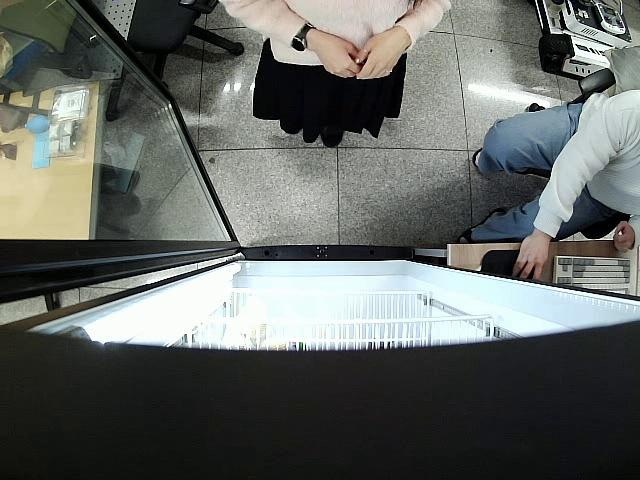00_hand: (356, 30, 408, 79), (314, 28, 360, 78), (514, 230, 549, 281), (614, 218, 638, 256)
